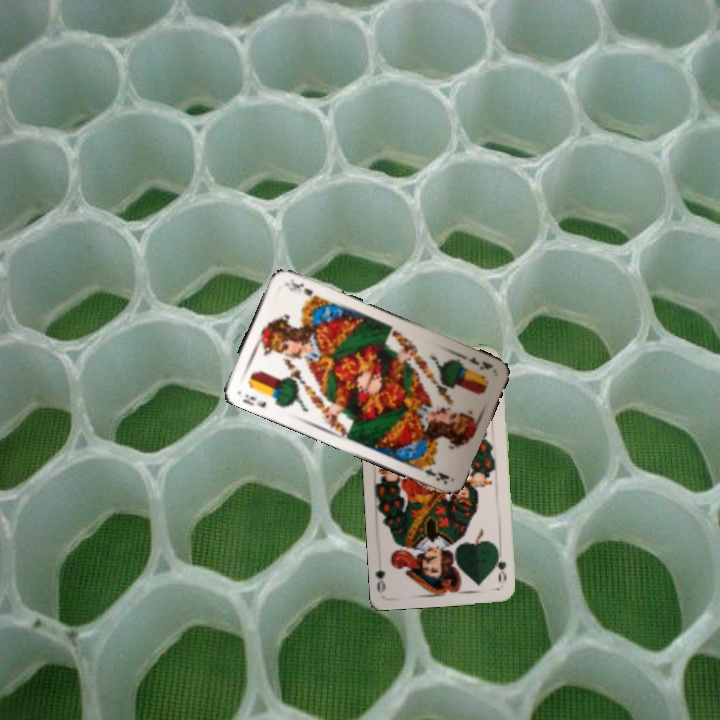EK: (457, 350, 495, 372), (238, 390, 269, 410)
GO: (492, 547, 509, 584)
